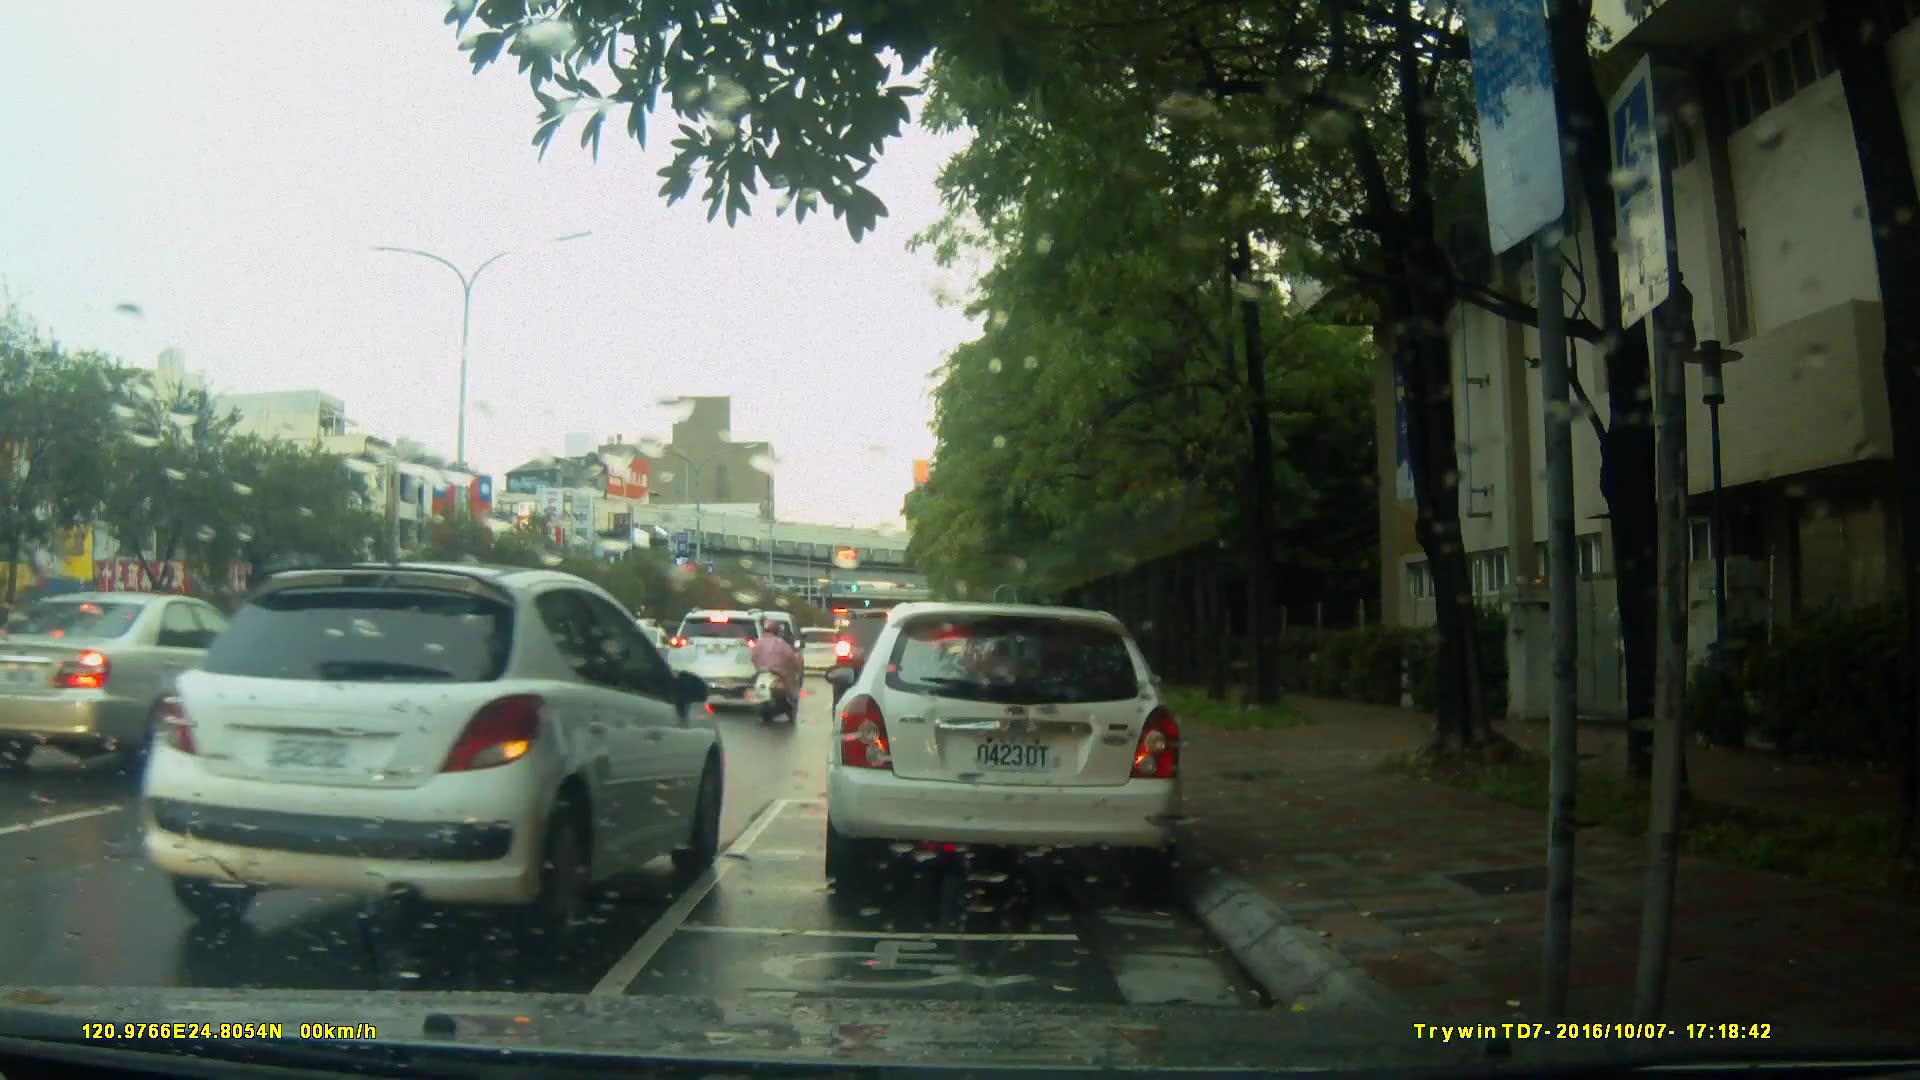rider: (745, 612, 795, 729)
vehicle: (135, 559, 727, 950), (820, 602, 1188, 898), (5, 589, 324, 775), (667, 609, 790, 713)
